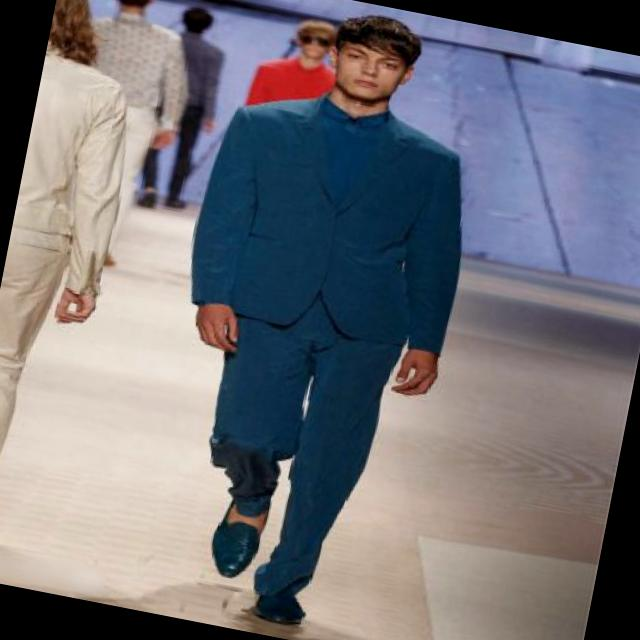Person: (122, 0, 507, 640)
